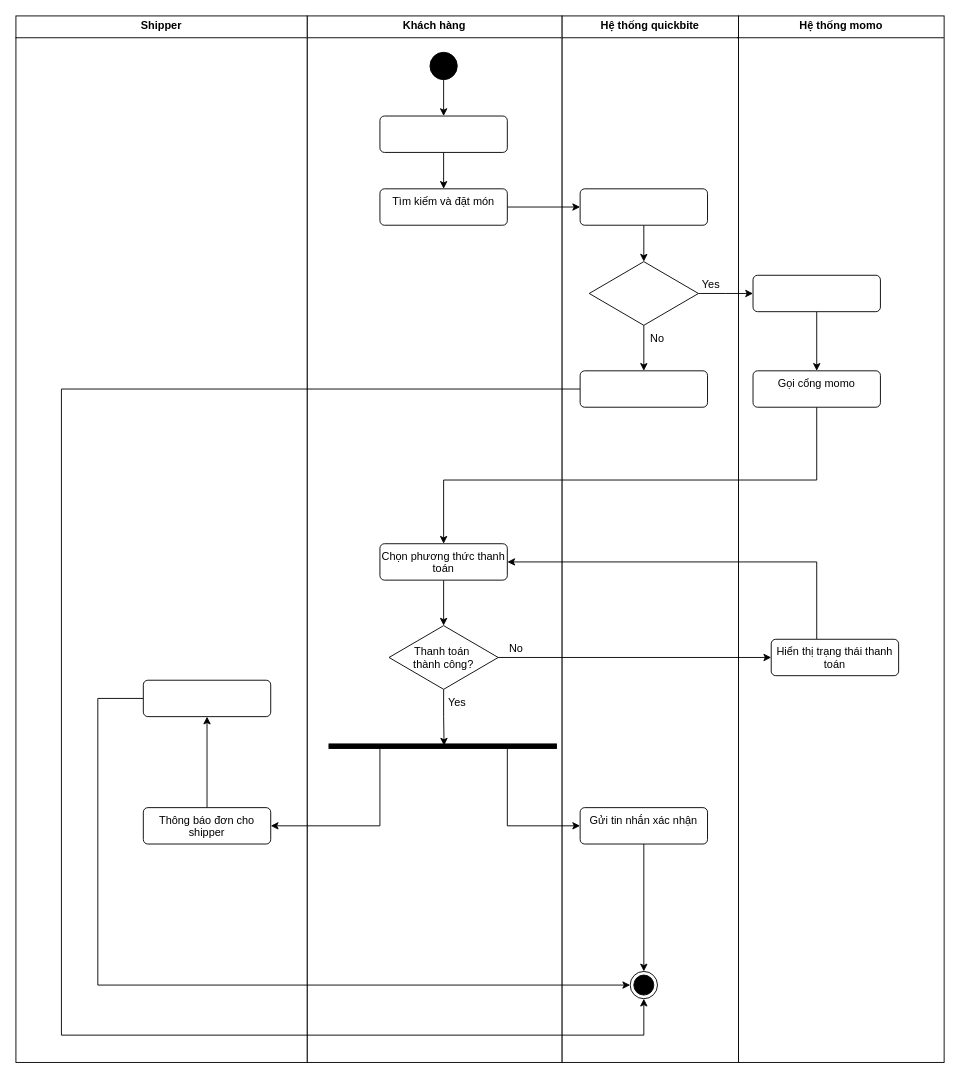
Image size: 960x1078. Some labels were removed from this diagram. The centre of each missing label's shape, as x and y in pixels:
"Còn món?" belongs at [643,293].
"Hiển thị hết món" belongs at [643,388].
"Hiển thị tổng tiền" belongs at [816,293].
"Kiểm tra trong kho" belongs at [643,206].
"Mở ứng dụng" belongs at [443,133].
"Nhận đơn" belongs at [206,698].
